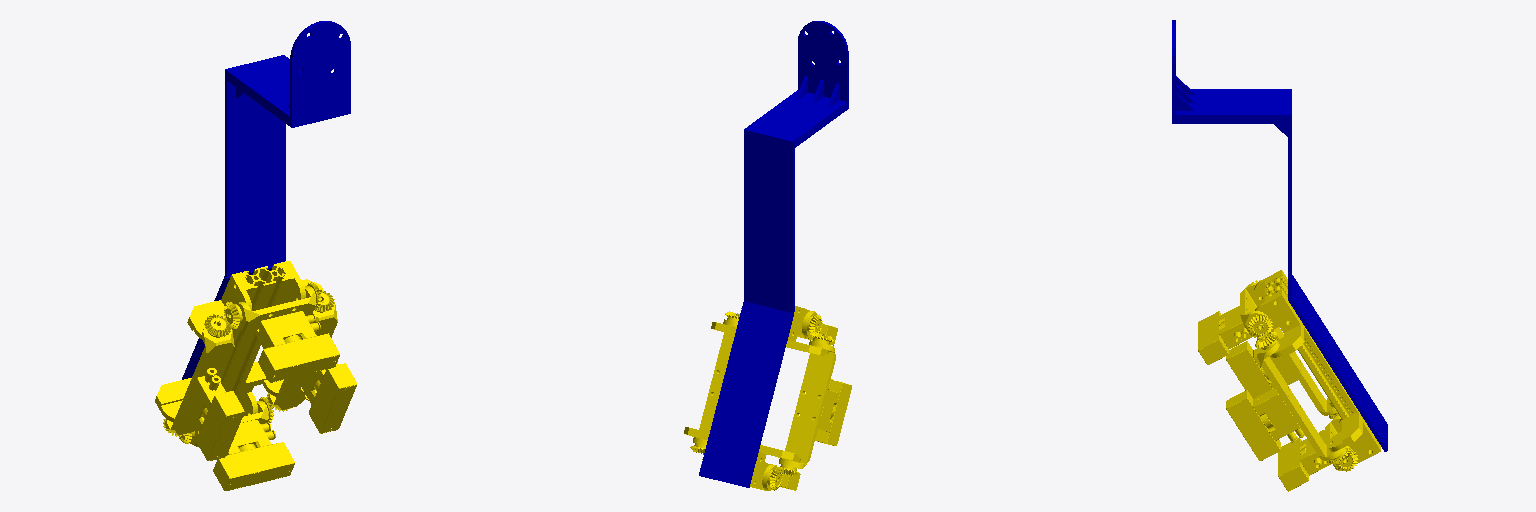
The robot description file, URDF, robot "S20":
<?xml version="1.0" ?>
<!-- =================================================================================== -->
<!-- |    This document was autogenerated by xacro from S20.urdf.xacro                 | -->
<!-- |    EDITING THIS FILE BY HAND IS NOT RECOMMENDED                                 | -->
<!-- =================================================================================== -->
<robot name="S20">
  <material name="black">
    <color rgba="0.0 0.0 0.0 1.0"/>
  </material>
  <material name="blue">
    <color rgba="0.0 0.0 0.8 1.0"/>
  </material>
  <material name="green">
    <color rgba="0.0 0.8 0.0 1.0"/>
  </material>
  <material name="grey">
    <color rgba="0.2 0.2 0.2 1.0"/>
  </material>
  <material name="orange">
    <color rgba="1.0 0.4235294117647059 0.0392156862745098 1.0"/>
  </material>
  <material name="brown">
    <color rgba="0.8705882352941177 0.8117647058823529 0.7647058823529411 1.0"/>
  </material>
  <material name="red">
    <color rgba="0.8 0.0 0.0 1.0"/>
  </material>
  <material name="white">
    <color rgba="1.0 1.0 1.0 1.0"/>
  </material>
  <material name="metal">
    <color rgba="0.768627450980392 0.749019607843137 0.729411764705882 1"/>
  </material>
  <material name="metal_grey">
    <color rgba="0.501960784313725 0.501960784313725 0.501960784313725 1"/>
  </material>
  <material name="metal_white">
    <color rgba="0.866666666666667 0.866666666666667 0.890196078431373 1"/>
  </material>
  <!-- ros_control plugin -->
  <gazebo>
    <plugin filename="libgazebo_ros_control.so" name="gazebo_ros_control">
      <robotSimType>gazebo_ros_control/DefaultRobotHWSim</robotSimType>
      <legacyModeNS>true</legacyModeNS>
    </plugin>
  </gazebo>
  <gazebo reference="elfin_link2">
    <visual name="visual">
      <material>
        <script>
          <uri>file:/[local-path]/scripts/gazebo.material</uri>
          <name>Gazebo/Grey</name>
        </script>
      </material>
    </visual>
  </gazebo>
  <gazebo reference="elfin_link4">
    <visual name="visual">
      <material>
        <script>
          <uri>file:/[local-path]/scripts/gazebo.material</uri>
          <name>Gazebo/Grey</name>
        </script>
      </material>
    </visual>
  </gazebo>
  <transmission name="elfin_joint1_trans">
    <type>transmission_interface/SimpleTransmission</type>
    <joint name="elfin_joint1">
      <hardwareInterface>hardware_interface/PositionJointInterface</hardwareInterface>
    </joint>
    <actuator name="elfin_joint1_motor">
      <mechanicalReduction>1</mechanicalReduction>
    </actuator>
  </transmission>
  <transmission name="elfin_joint2_trans">
    <type>transmission_interface/SimpleTransmission</type>
    <joint name="elfin_joint2">
      <hardwareInterface>hardware_interface/PositionJointInterface</hardwareInterface>
    </joint>
    <actuator name="elfin_joint2_motor">
      <mechanicalReduction>1</mechanicalReduction>
    </actuator>
  </transmission>
  <transmission name="elfin_joint3_trans">
    <type>transmission_interface/SimpleTransmission</type>
    <joint name="elfin_joint3">
      <hardwareInterface>hardware_interface/PositionJointInterface</hardwareInterface>
    </joint>
    <actuator name="elfin_joint3_motor">
      <mechanicalReduction>1</mechanicalReduction>
    </actuator>
  </transmission>
  <transmission name="elfin_joint4_trans">
    <type>transmission_interface/SimpleTransmission</type>
    <joint name="elfin_joint4">
      <hardwareInterface>hardware_interface/PositionJointInterface</hardwareInterface>
    </joint>
    <actuator name="elfin_joint4_motor">
      <mechanicalReduction>1</mechanicalReduction>
    </actuator>
  </transmission>
  <transmission name="elfin_joint5_trans">
    <type>transmission_interface/SimpleTransmission</type>
    <joint name="elfin_joint5">
      <hardwareInterface>hardware_interface/PositionJointInterface</hardwareInterface>
    </joint>
    <actuator name="elfin_joint5_motor">
      <mechanicalReduction>1</mechanicalReduction>
    </actuator>
  </transmission>
  <transmission name="elfin_joint6_trans">
    <type>transmission_interface/SimpleTransmission</type>
    <joint name="elfin_joint6">
      <hardwareInterface>hardware_interface/PositionJointInterface</hardwareInterface>
    </joint>
    <actuator name="elfin_joint6_motor">
      <mechanicalReduction>1</mechanicalReduction>
    </actuator>
  </transmission>
  <link name="world"/>
  <joint name="world_base" type="fixed">
    <origin rpy="0 0 0" xyz="0 0 0"/>
    <parent link="world"/>
    <child link="elfin_base_link"/>
  </joint>
  <link name="elfin_base_link"/>
  <joint name="elfin_base_joint" type="fixed">
    <origin rpy="0 0 0" xyz="0 0 0"/>
    <parent link="elfin_base_link"/>
    <child link="elfin_base"/>
  </joint>
  <link name="elfin_base">
    <inertial>
      <origin rpy="0 0 0" xyz="-0.00131650768656017 3.86349405459754E-05 0.0343213199540785"/>
      <mass value="2.32181468230125"/>
      <inertia ixx="0.00741739022505177" ixy="-9.4225231258528E-05" ixz="-5.45619950886553E-05" iyy="0.00699483778046143" iyz="1.30022773204213E-06" izz="0.0123390065438587"/>
    </inertial>
    <visual>
      <origin rpy="0 0 0" xyz="0 0 0"/>
      <geometry>
        <mesh filename="package://elfin_description/meshes/S20/elfin_base.STL"/>
      </geometry>
      <material name="">
        <color rgba="0.752941176470588 0.752941176470588 0.752941176470588 1"/>
      </material>
    </visual>
    <collision>
      <origin rpy="0 0 0" xyz="0 0 0"/>
      <geometry>
        <mesh filename="package://elfin_description/meshes/S20/elfin_base.STL"/>
      </geometry>
    </collision>
  </link>
  <link name="elfin_link1">
    <inertial>
      <origin rpy="0 0 0" xyz="-1.0792519167212E-07 -0.0224399626110038 0.00175002240516534"/>
      <mass value="6.93455742496729"/>
      <inertia ixx="0.0460589183335357" ixy="5.43718136375216E-07" ixz="2.96738634298801E-07" iyy="0.0375916708812216" iyz="-0.000245581780149179" izz="0.0394268304468804"/>
    </inertial>
    <visual>
      <origin rpy="0 0 0" xyz="0 0 0"/>
      <geometry>
        <mesh filename="package://elfin_description/meshes/S20/elfin_link1.STL"/>
      </geometry>
      <material name="">
        <color rgba="0.898039215686275 0.917647058823529 0.929411764705882 1"/>
      </material>
    </visual>
    <collision>
      <origin rpy="0 0 0" xyz="0 0 0"/>
      <geometry>
        <mesh filename="package://elfin_description/meshes/S20/elfin_link1.STL"/>
      </geometry>
    </collision>
  </link>
  <joint name="elfin_joint1" type="revolute">
    <origin rpy="0 0 0" xyz="0 0 0.171"/>
    <parent link="elfin_base"/>
    <child link="elfin_link1"/>
    <axis xyz="0 0 1"/>
    <limit effort="200" lower="-6.28" upper="6.28" velocity="1.57"/>
  </joint>
  <link name="elfin_link2">
    <inertial>
      <origin rpy="0 0 0" xyz="-0.370229694350317 9.38128437405483E-07 0.000899041883029139"/>
      <mass value="18.8395085758056"/>
      <inertia ixx="0.0687507132351259" ixy="-5.05507420279161E-07" ixz="-6.41343868263508E-05" iyy="0.411200291693132" iyz="-1.80729528146994E-07" izz="0.40138597350588"/>
    </inertial>
    <visual>
      <origin rpy="0 0 0" xyz="0 0 0"/>
      <geometry>
        <mesh filename="package://elfin_description/meshes/S20/elfin_link2.STL"/>
      </geometry>
      <material name="">
        <color rgba="0.752941176470588 0.752941176470588 0.752941176470588 1"/>
      </material>
    </visual>
    <collision>
      <origin rpy="0 0 0" xyz="0 0 0"/>
      <geometry>
        <mesh filename="package://elfin_description/meshes/S20/elfin_link2.STL"/>
      </geometry>
    </collision>
  </link>
  <joint name="elfin_joint2" type="revolute">
    <origin rpy="1.5708 0 0" xyz="0 -0.2295 0"/>
    <parent link="elfin_link1"/>
    <child link="elfin_link2"/>
    <axis xyz="0 0 1"/>
    <limit effort="200" lower="-3.3158" upper="0.1745" velocity="1.57"/>
  </joint>
  <link name="elfin_link3">
    <inertial>
      <origin rpy="0 0 0" xyz="0.310973076601113 -4.7405306624615E-09 0.0109938899740937"/>
      <mass value="7.53508270364931"/>
      <inertia ixx="0.0133872719937165" ixy="1.91460600478011E-07" ixz="0.00152175061957157" iyy="0.11837455186459" iyz="-2.26041817837737E-08" izz="0.116582348081593"/>
    </inertial>
    <visual>
      <origin rpy="0 0 0" xyz="0 0 0"/>
      <geometry>
        <mesh filename="package://elfin_description/meshes/S20/elfin_link3.STL"/>
      </geometry>
      <material name="">
        <color rgba="0.752941176470588 0.752941176470588 0.752941176470588 1"/>
      </material>
    </visual>
    <collision>
      <origin rpy="0 0 0" xyz="0 0 0"/>
      <geometry>
        <mesh filename="package://elfin_description/meshes/S20/elfin_link3.STL"/>
      </geometry>
    </collision>
  </link>
  <joint name="elfin_joint3" type="revolute">
    <origin rpy="0 0 3.1416" xyz="-0.85 0 -0.1885"/>
    <parent link="elfin_link2"/>
    <child link="elfin_link3"/>
    <axis xyz="0 0 1"/>
    <limit effort="200" lower="-2.9319" upper="2.9319" velocity="1.57"/>
  </joint>
  <link name="elfin_link4">
    <inertial>
      <origin rpy="0 0 0" xyz="8.5204157129759E-07 -0.00559612992738279 0.124499710924349"/>
      <mass value="1.26777180180805"/>
      <inertia ixx="0.00300888445161096" ixy="1.64612435809042E-08" ixz="3.62281943568331E-08" iyy="0.00214465218602862" iyz="9.35786831203314E-05" izz="0.00239761638151984"/>
    </inertial>
    <visual>
      <origin rpy="0 0 0" xyz="0 0 0"/>
      <geometry>
        <mesh filename="package://elfin_description/meshes/S20/elfin_link4.STL"/>
      </geometry>
      <material name="">
        <color rgba="0.898039215686275 0.917647058823529 0.929411764705882 1"/>
      </material>
    </visual>
    <collision>
      <origin rpy="0 0 0" xyz="0 0 0"/>
      <geometry>
        <mesh filename="package://elfin_description/meshes/S20/elfin_link4.STL"/>
      </geometry>
    </collision>
  </link>
  <joint name="elfin_joint4" type="revolute">
    <origin rpy="0 0 0" xyz="0.712 0 0"/>
    <parent link="elfin_link3"/>
    <child link="elfin_link4"/>
    <axis xyz="0 0 1"/>
    <limit effort="104" lower="-6.28" upper="6.28" velocity="1.57"/>
  </joint>
  <link name="elfin_link5">
    <inertial>
      <origin rpy="0 0 0" xyz="-1.58900480728974E-06 0.00559613044782842 0.124499711309393"/>
      <mass value="1.26777180180803"/>
      <inertia ixx="0.00300888445161093" ixy="1.64612435696446E-08" ixz="-3.62281943491141E-08" iyy="0.00214465218602857" iyz="-9.35786831203246E-05" izz="0.00239761638151982"/>
    </inertial>
    <visual>
      <origin rpy="0 0 0" xyz="0 0 0"/>
      <geometry>
        <mesh filename="package://elfin_description/meshes/S20/elfin_link5.STL"/>
      </geometry>
      <material name="">
        <color rgba="0.752941176470588 0.752941176470588 0.752941176470588 1"/>
      </material>
    </visual>
    <collision>
      <origin rpy="0 0 0" xyz="0 0 0"/>
      <geometry>
        <mesh filename="package://elfin_description/meshes/S20/elfin_link5.STL"/>
      </geometry>
    </collision>
  </link>
  <joint name="elfin_joint5" type="revolute">
    <origin rpy="-1.5708 0 0" xyz="0 0 0.138"/>
    <parent link="elfin_link4"/>
    <child link="elfin_link5"/>
    <axis xyz="0 0 1"/>
    <limit effort="34" lower="-6.28" upper="6.28" velocity="1.57"/>
  </joint>
  <link name="elfin_link6">
    <inertial>
      <origin rpy="0 0 0" xyz="-7.47115137089693E-07 0.000102435646244473 0.0904183015693256"/>
      <mass value="0.468079508708449"/>
      <inertia ixx="0.000412770805513074" ixy="1.60636639637837E-08" ixz="-3.02343967687703E-08" iyy="0.000415704740293176" iyz="1.46595766333508E-07" izz="0.000530952415351683"/>
    </inertial>
    <visual>
      <origin rpy="0 0 0" xyz="0 0 0"/>
      <geometry>
        <mesh filename="package://elfin_description/meshes/S20/elfin_link6.STL"/>
      </geometry>
      <material name="">
        <color rgba="0.752941176470588 0.752941176470588 0.752941176470588 1"/>
      </material>
    </visual>
    <collision>
      <origin rpy="0 0 0" xyz="0 0 0"/>
      <geometry>
        <mesh filename="package://elfin_description/meshes/S20/elfin_link6.STL"/>
      </geometry>
    </collision>
  </link>
  <joint name="elfin_joint6" type="revolute">
    <origin rpy="1.5708 0 0" xyz="0 0 0.138"/>
    <parent link="elfin_link5"/>
    <child link="elfin_link6"/>
    <axis xyz="0 0 1"/>
    <limit effort="34" lower="-6.28" upper="6.28" velocity="1.57"/>
  </joint>
  <link name="elfin_end_link">
  </link>
  <joint name="elfin_end_joint" type="fixed">
    <origin rpy="0 0 3.1416" xyz="0 0 0.1257"/>
    <parent link="elfin_link6"/>
    <child link="elfin_end_link"/>
  </joint>
  <link name="ee_link">
    <visual>
      <origin rpy="0 0 0" xyz="0 0 0"/>
      <geometry>
        <mesh filename="package://elfin_description/meshes/S20/ee_link.STL"/>
      </geometry>
      <material name="">
        <color rgba="0 0 0.8 1"/>
      </material>
    </visual>
    <collision>
      <origin rpy="0 0 0" xyz="0 0 0"/>
      <geometry>
        <mesh filename="package://elfin_description/meshes/S20/ee_link.STL"/>
      </geometry>
    </collision>
  </link>
  <joint name="ee_link_joint" type="fixed">
    <origin rpy="-1.5707 0 1.5707" xyz="0.035 -0.155 0"/>
    <parent link="elfin_end_link"/>
    <child link="ee_link"/>
  </joint>
  <link name="gripper_link0">
    <visual>
      <origin rpy="0 0 0" xyz="0 0 0"/>
      <geometry>
        <mesh filename="package://elfin_description/meshes/S20/gripper_link.STL"/>
      </geometry>
      <material name="">
        <color rgba="0 0 0.8 1"/>
      </material>
    </visual>
    <collision>
      <origin rpy="0 0 0" xyz="0 0 0"/>
      <geometry>
        <mesh filename="package://elfin_description/meshes/S20/gripper_link.STL"/>
      </geometry>
    </collision>
  </link>
  <joint name="gripper_link_joint0" type="fixed">
    <origin rpy="1.5707 0 0" xyz="-0.1 0.124 0"/>
    <parent link="ee_link"/>
    <child link="gripper_link0"/>
  </joint>
  <link name="gripper_link_ee1">
    <visual>
      <origin rpy="0 0 0" xyz="0 0 0"/>
      <geometry>
        <mesh filename="package://elfin_description/meshes/S20/gripper_link.STL"/>
      </geometry>
      <material name="">
        <color rgba="0 0 0.8 1"/>
      </material>
    </visual>
    <collision>
      <origin rpy="0 0 0" xyz="0 0 0"/>
      <geometry>
        <mesh filename="package://elfin_description/meshes/S20/gripper_link.STL"/>
      </geometry>
    </collision>
  </link>
  <joint name="gripper_link_joint_ee1" type="fixed">
    <origin rpy="0 -0.5235 0" xyz="-0.0866 0 -0.05"/>
    <parent link="gripper_link0"/>
    <child link="gripper_link_ee1"/>
  </joint>
  <link name="gripper_link_ee2">
    <visual>
      <origin rpy="0 0 0" xyz="0 0 0"/>
      <geometry>
        <mesh filename="package://elfin_description/meshes/S20/gripper_link.STL"/>
      </geometry>
      <material name="">
        <color rgba="0 0 0.8 1"/>
      </material>
    </visual>
    <collision>
      <origin rpy="0 0 0" xyz="0 0 0"/>
      <geometry>
        <mesh filename="package://elfin_description/meshes/S20/gripper_link.STL"/>
      </geometry>
    </collision>
  </link>
  <joint name="gripper_link_joint_ee2" type="fixed">
    <origin rpy="0 0 0" xyz="-0.1 0 0"/>
    <parent link="gripper_link_ee1"/>
    <child link="gripper_link_ee2"/>
  </joint>
  <link name="needle_gripper">
    <visual>
      <origin rpy="0 0 0" xyz="0 0 0"/>
      <geometry>
        <mesh filename="package://elfin_description/meshes/S20/needle_gripper.STL"/>
      </geometry>
      <material name="">
        <color rgba="1.0 0.92 0.016 1"/>
      </material>
    </visual>
    <collision>
      <origin rpy="0 0 0" xyz="0 0 0"/>
      <geometry>
        <mesh filename="package://elfin_description/meshes/S20/needle_gripper.STL"/>
      </geometry>
    </collision>
  </link>
  <joint name="gripper_joint" type="fixed">
    <origin rpy="-1.5708 0 0" xyz="0.106 0.0305 0.09"/>
    <parent link="gripper_link_ee2"/>
    <child link="needle_gripper"/>
  </joint>
</robot>

--- Render facts (derived) ---
3 views of the same robot in one strip: view 1: azimuth 30°, elevation 25°; view 2: azimuth 150°, elevation 25°; view 3: azimuth 270°, elevation 25° (orthographic).
Model S20 with 15 links and 14 joints (6 revolute, 8 fixed), rooted at world, posed all joints at 0.
Visible links, largest first — view 1: needle_gripper, ee_link, gripper_link0; view 2: ee_link, needle_gripper, gripper_link_ee1, gripper_link_ee2, gripper_link0; view 3: needle_gripper, ee_link, gripper_link_ee1, gripper_link_ee2.
Boxes of the visible links, left/top/right/bottom form: needle_gripper: left=155, top=261, right=356, bottom=490; ee_link: left=225, top=21, right=350, bottom=178; gripper_link0: left=225, top=165, right=285, bottom=276; ee_link: left=744, top=21, right=848, bottom=230; needle_gripper: left=684, top=306, right=851, bottom=490; gripper_link_ee1: left=721, top=301, right=793, bottom=400; gripper_link_ee2: left=699, top=389, right=771, bottom=487; gripper_link0: left=744, top=220, right=794, bottom=312; needle_gripper: left=1198, top=270, right=1380, bottom=491; ee_link: left=1172, top=20, right=1291, bottom=210; gripper_link_ee1: left=1288, top=275, right=1339, bottom=375; gripper_link_ee2: left=1337, top=350, right=1387, bottom=451.
Size in the robot's own frame: 0.14 by 0.224 by 0.5184 metres.
5 mesh visuals loaded from 10 distinct referenced files (3 binary STL); not drawn: 7 (reference not matched to a file when rendering).